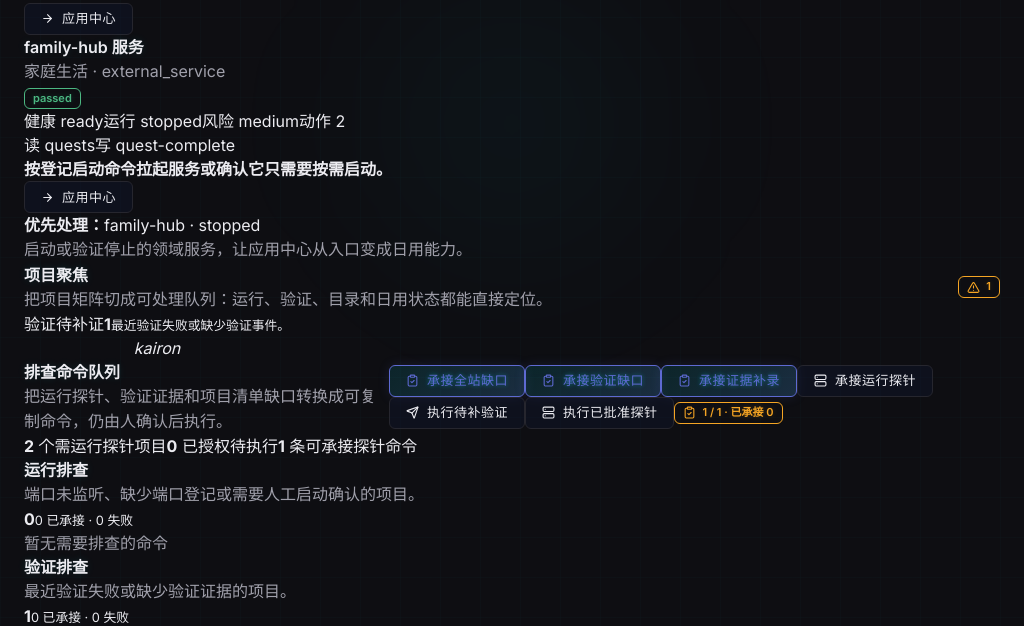
it: SystemMapView interaction › batches verification triage into OMO tasks without executing commands
This screenshot has width=1024, height=626.
(page scrolled)
Click the button with aria-label "批量承接验证缺口" at (593, 381), box [525, 365, 661, 397]
(page scrolled)
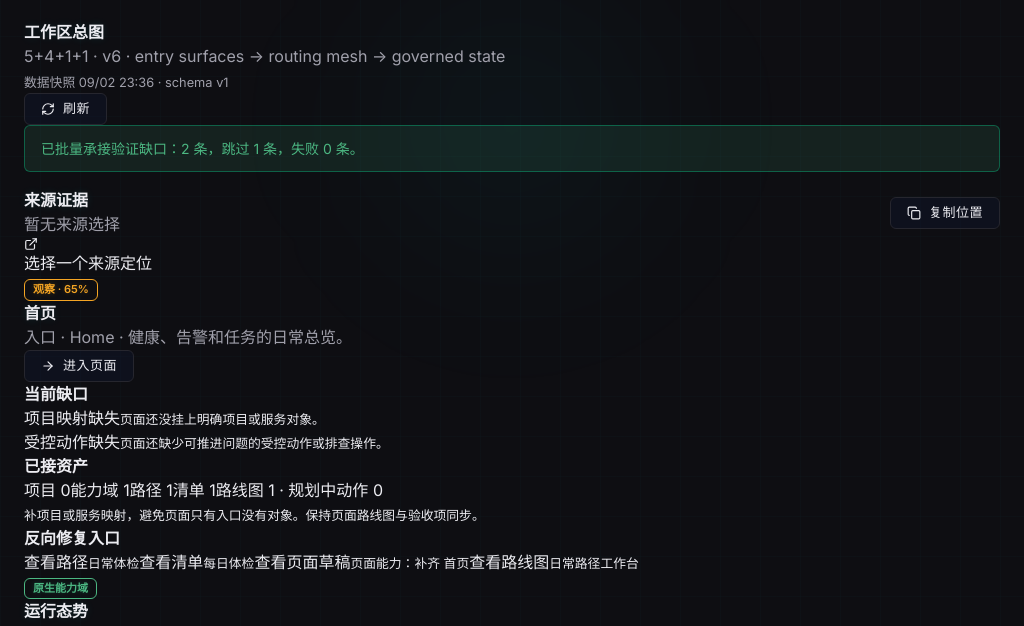
Result: the message shows "已批量承接验证缺口：2 条" at [41, 140, 364, 157]
